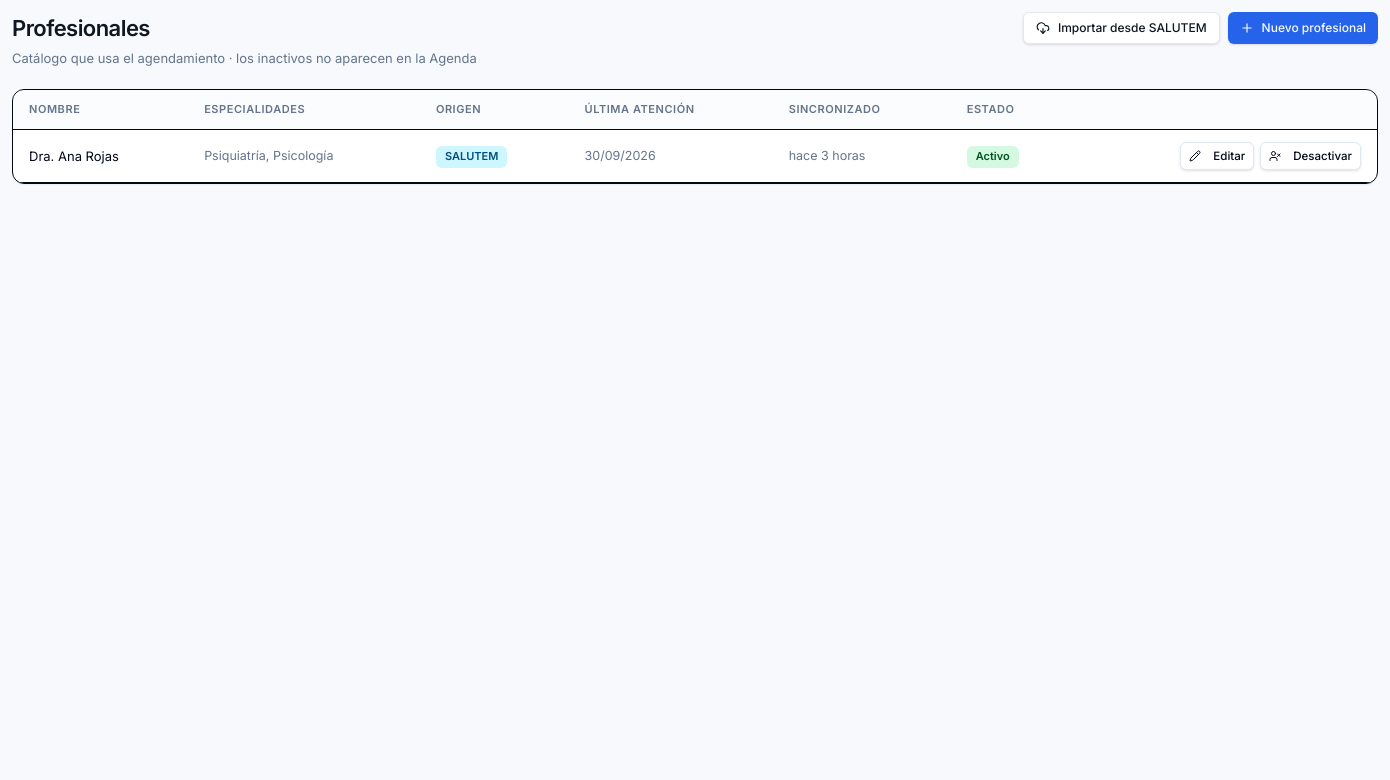
Test: ProfesionalesPage › importar muestra creados/actualizados/adoptados/vinculados y los errores
Click the button with test id "btn-importar-salutem". click: (1121, 28)
box: [1023,12,1220,44]
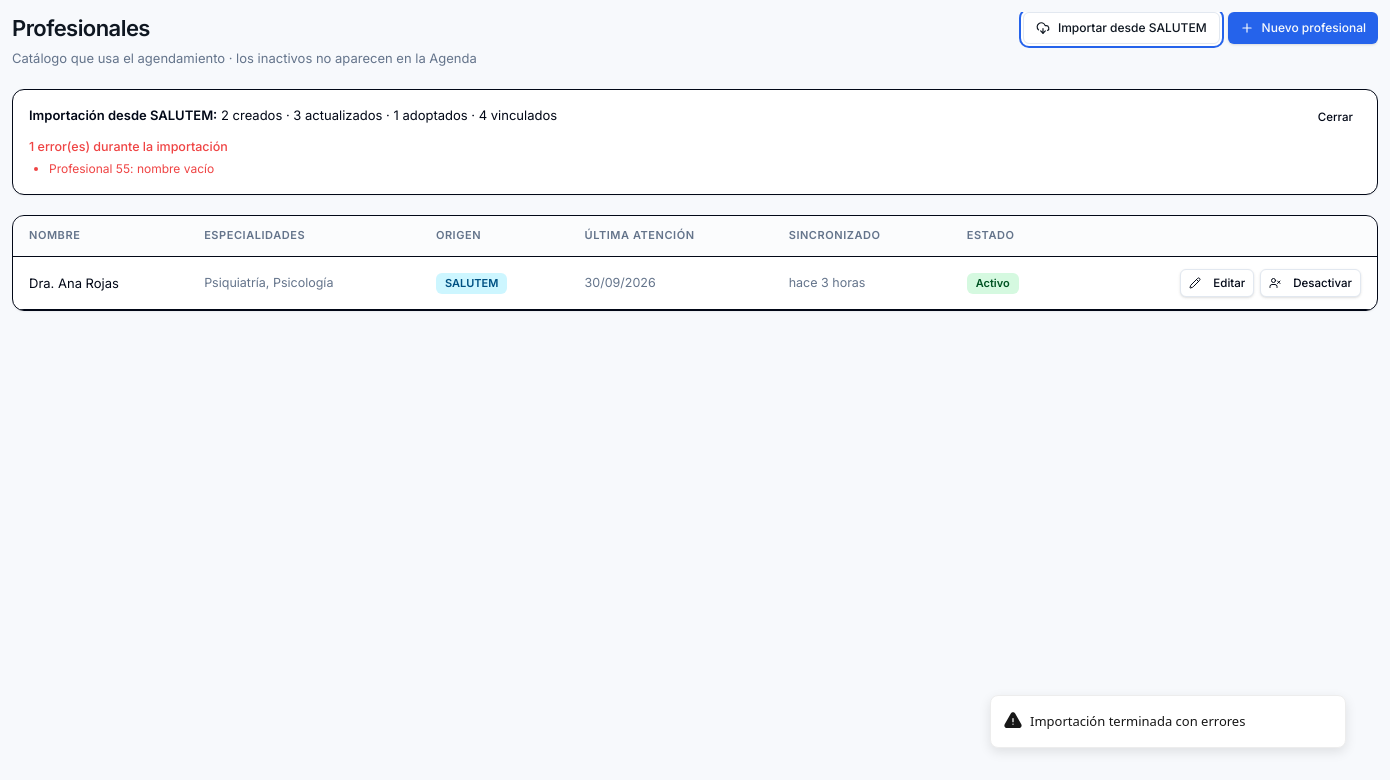
Result: the element with test id "resultado-importacion" shows "2 creados" at [12,88,1378,195]
Result: the element with test id "resultado-importacion" shows "3 actualizados" at [12,88,1378,195]
Result: the element with test id "resultado-importacion" shows "1 adoptados" at [12,88,1378,195]
